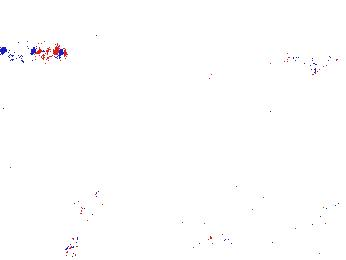X-ray fish: (171, 214, 232, 254)
glassfish: (174, 132, 270, 198), (68, 161, 123, 248)
red belly glassfish: (13, 44, 67, 65), (192, 65, 219, 84)
